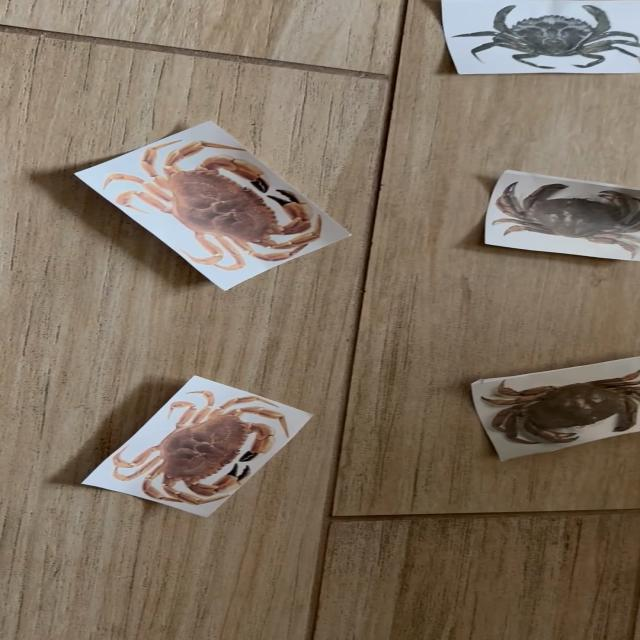egc: (454, 5, 639, 69)
